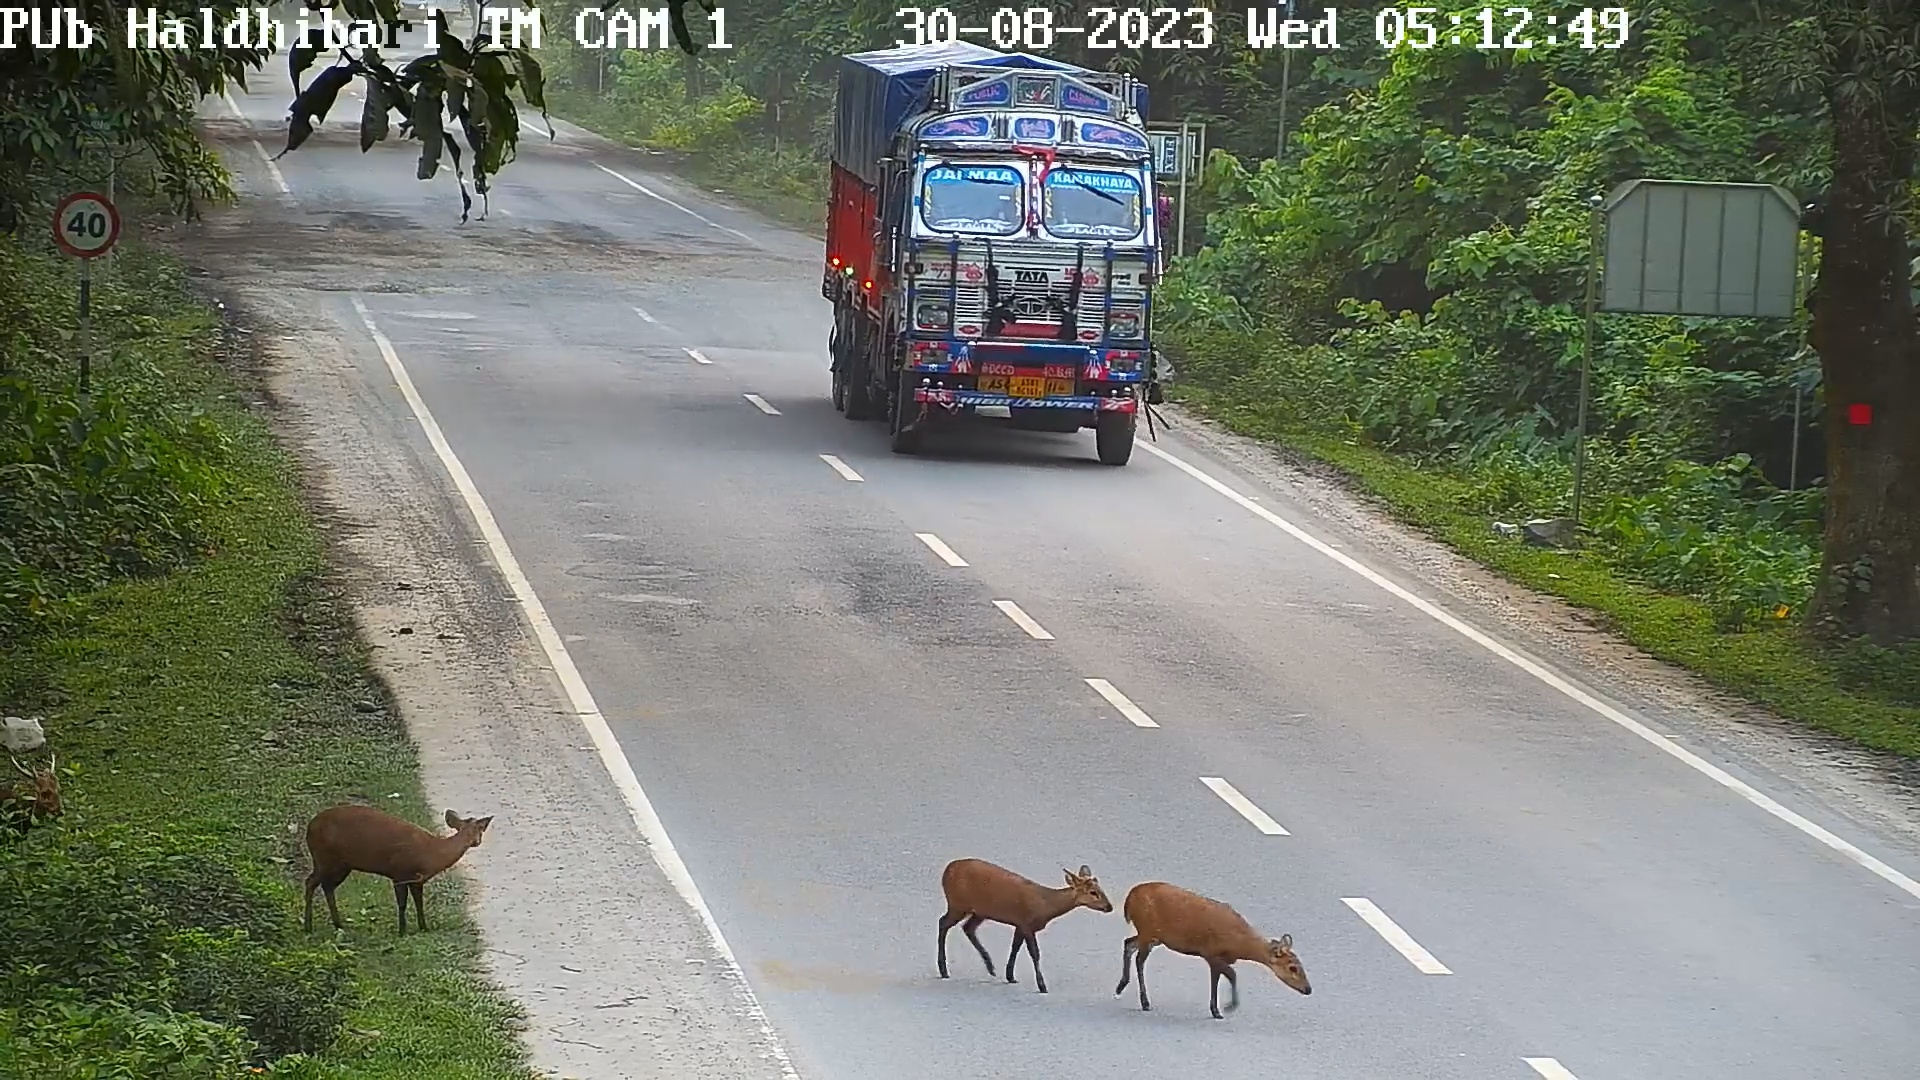deers: (1120, 827, 1317, 1030), (285, 775, 505, 943), (909, 827, 1114, 997), (0, 742, 71, 870)
